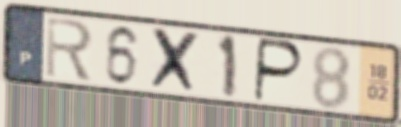1: (214, 32, 240, 100)
6: (104, 24, 140, 87)
8: (309, 44, 355, 113)
P: (251, 35, 306, 105)
R: (44, 14, 96, 83)
X: (147, 24, 203, 97)
